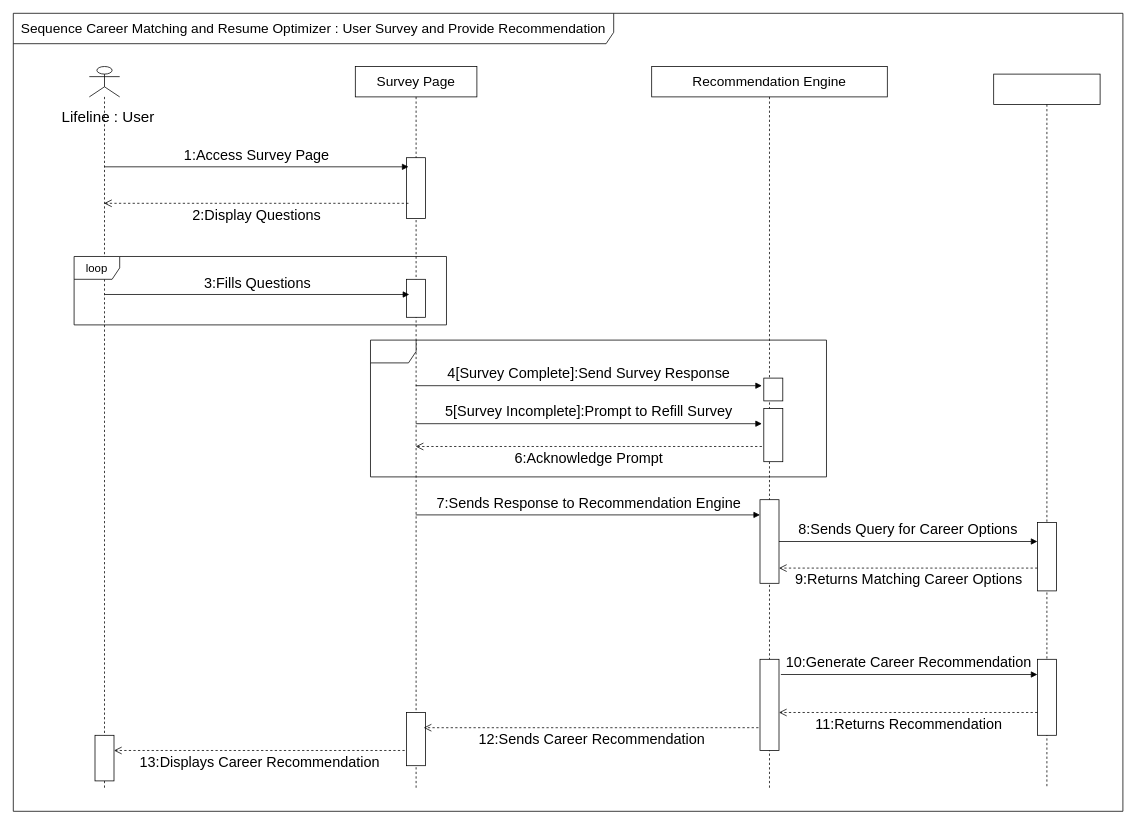
Some shapes in this 1136 by 825 pixel diagram are drawn without their labels. Each missing label, with the box of its shape:
Alt: (370, 339, 826, 477)
Database: (993, 73, 1100, 788)
